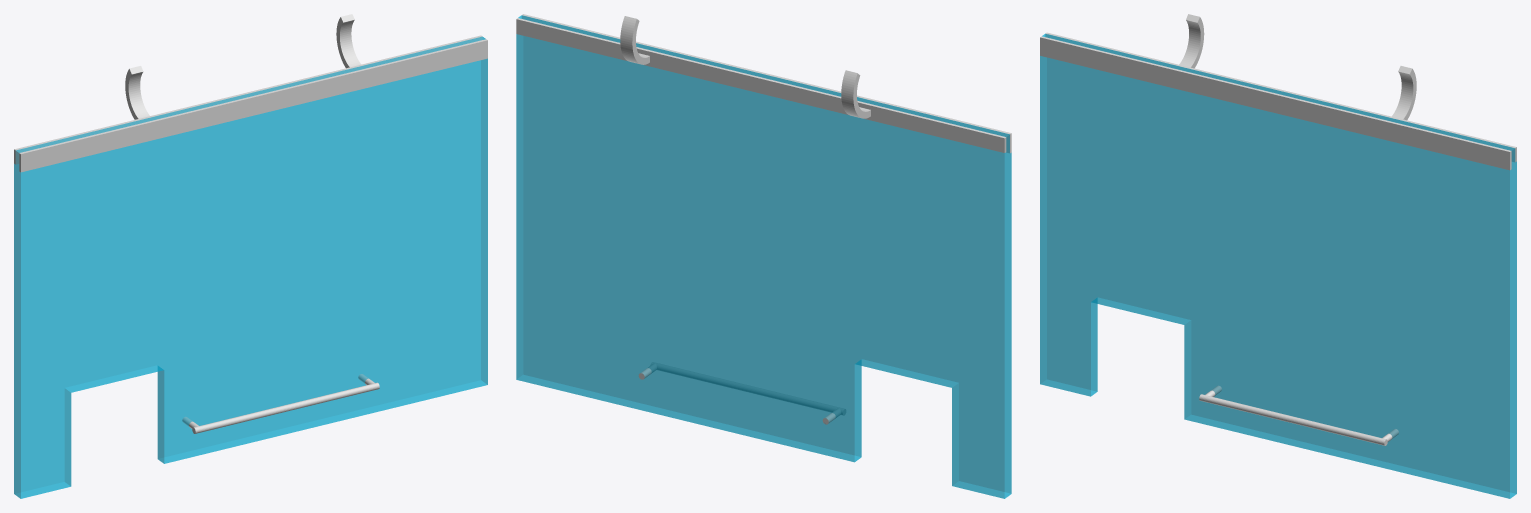
The model's file is ventana_izq.glb.
The picture shows the model from 3 angles, left to right: view 1: azimuth 30°, elevation 25°; view 2: azimuth 150°, elevation 25°; view 3: azimuth 330°, elevation 25°; orthographic projection. The views are drawn at different scales.
Visible parts, largest first — view 1: Asset3DLoader.sceneRoot; view 2: Asset3DLoader.sceneRoot; view 3: Asset3DLoader.sceneRoot.
Boxes of the visible parts, <box> form: Asset3DLoader.sceneRoot: <box>14,14,487,498</box>; Asset3DLoader.sceneRoot: <box>516,14,1011,498</box>; Asset3DLoader.sceneRoot: <box>1040,14,1516,498</box>.
Bounding box in the file's own units: 1205 × 950 × 142.
